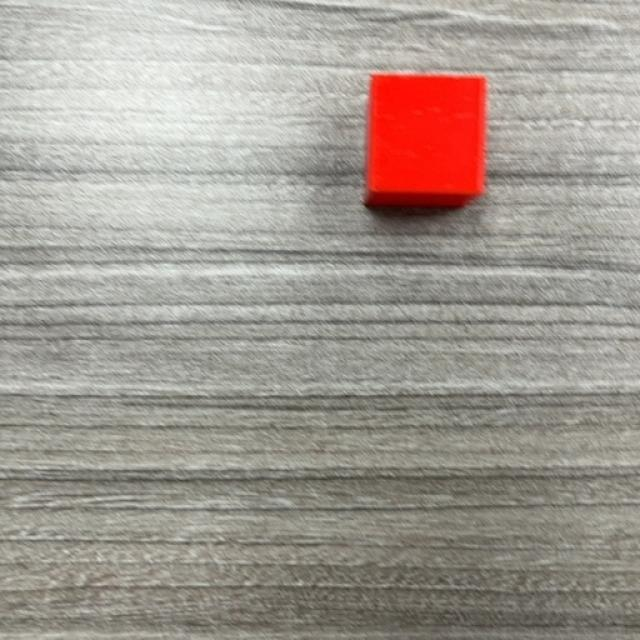Rojo: (364, 72, 488, 211)
